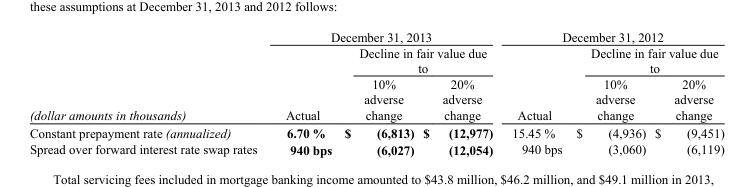table: (28, 29, 723, 156)
table column: (28, 29, 270, 156), (417, 29, 501, 156), (568, 29, 649, 156), (337, 29, 417, 156), (649, 29, 723, 156), (270, 29, 337, 156), (501, 29, 568, 156)
table column header: (28, 29, 723, 123)
table row: (28, 75, 723, 123), (28, 44, 723, 75), (28, 123, 723, 140), (28, 140, 723, 156), (28, 29, 723, 44)
table spanning cell: (28, 29, 270, 123), (270, 44, 337, 123), (501, 44, 568, 123), (337, 44, 501, 75), (568, 44, 723, 75), (270, 29, 501, 44), (501, 29, 723, 44)
